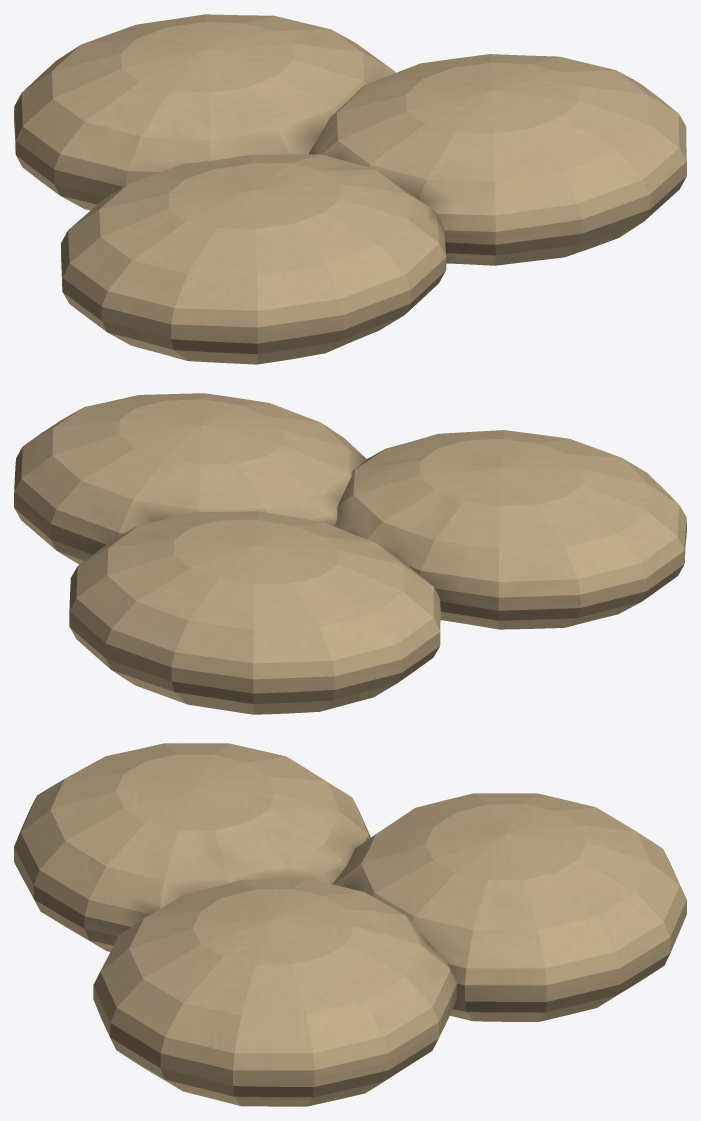
Rendered from p_cushions.hi.glb.
The picture shows the model from 3 angles, top to bottom: view 1: azimuth 30°, elevation 25°; view 2: azimuth 150°, elevation 25°; view 3: azimuth 270°, elevation 25°; orthographic projection. The views are drawn at different scales.
Parts seen in each view (by area): view 1: cushions; view 2: cushions; view 3: cushions.
Part boxes in pixels (x1,y1,x2,y2): cushions: (14,14,686,364); cushions: (14,393,686,714); cushions: (14,743,686,1106).
Bounding box in the file's own units: 0.9478 × 0.2083 × 0.8698.
1 material, 1 textured.
